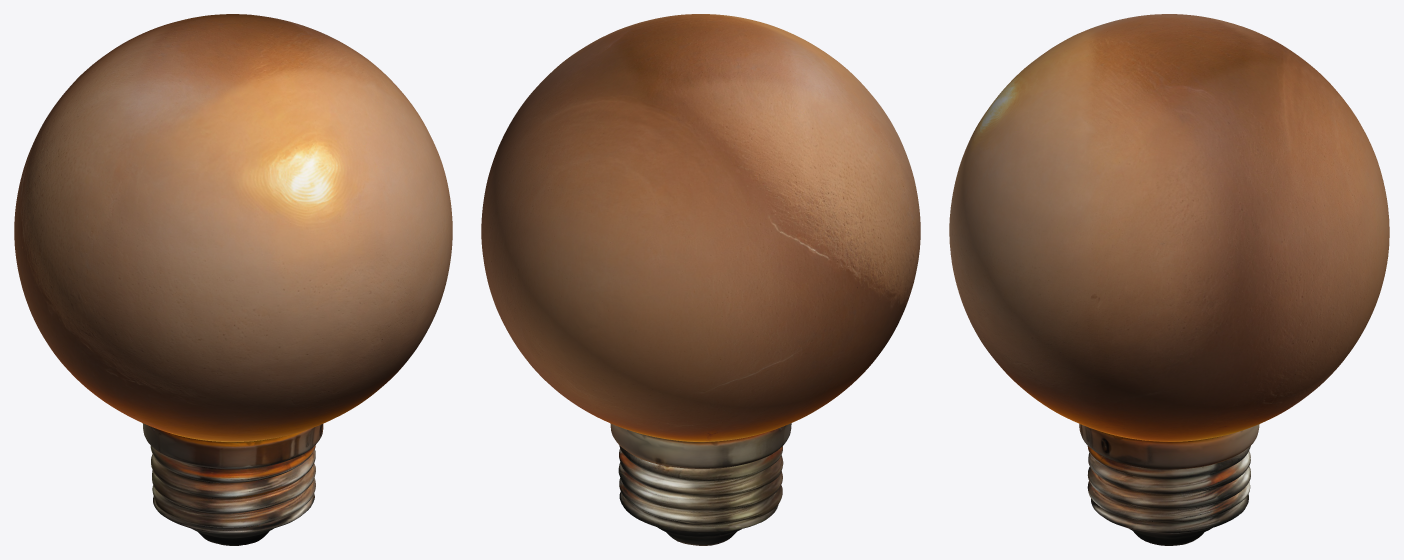
Rendered from light.glb.
The picture shows the model from 3 angles, left to right: view 1: azimuth 30°, elevation 25°; view 2: azimuth 150°, elevation 25°; view 3: azimuth 270°, elevation 25°; orthographic projection.
Visible parts, largest first — view 1: Mesh_0.001; view 2: Mesh_0.001; view 3: Mesh_0.001.
Boxes of the visible parts, left/top/right/bottom form: Mesh_0.001: left=14, top=14, right=452, bottom=545; Mesh_0.001: left=481, top=14, right=920, bottom=545; Mesh_0.001: left=949, top=14, right=1389, bottom=545.
Size of the model in its own units: 6.17 by 7.76 by 6.2.
1 material, 1 textured.
